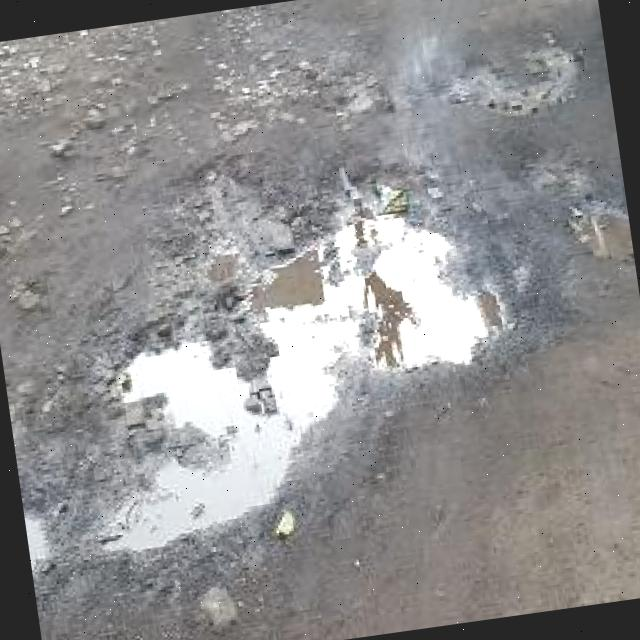stagnation: (69, 176, 527, 542)
